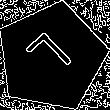L_SE: (22, 28, 81, 86)
